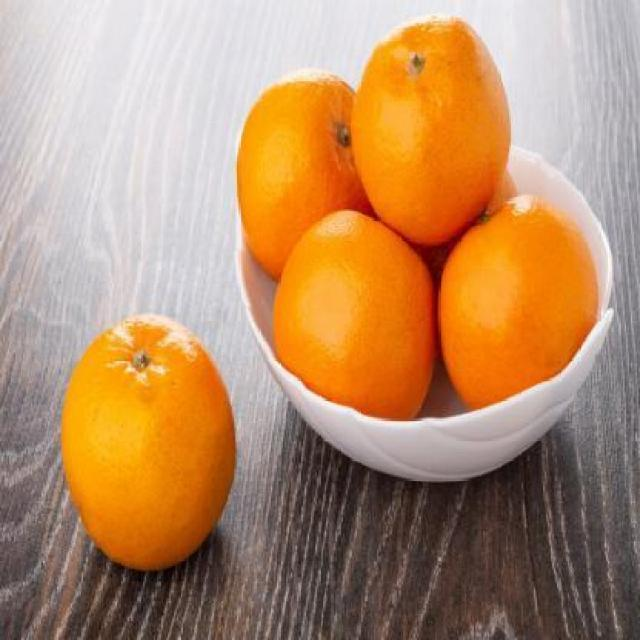Jeruk Sudah Matang: (62, 313, 241, 569), (270, 212, 436, 448), (354, 18, 516, 240), (438, 196, 598, 407), (235, 70, 388, 288)
